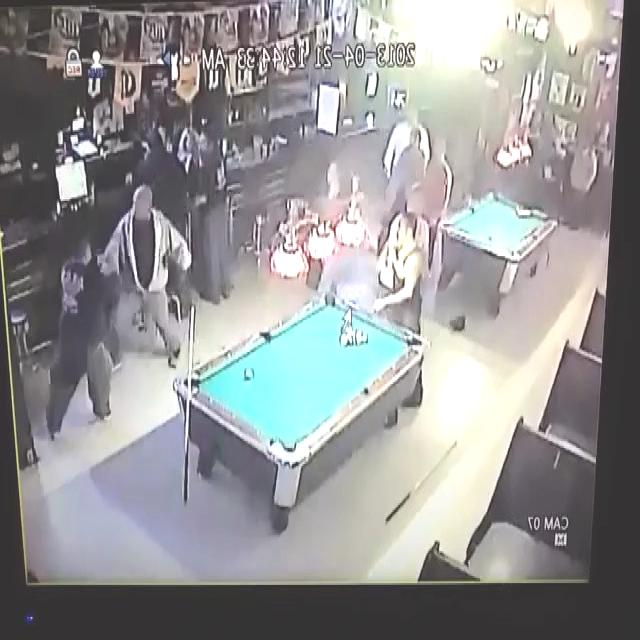fight: (43, 177, 192, 438)
